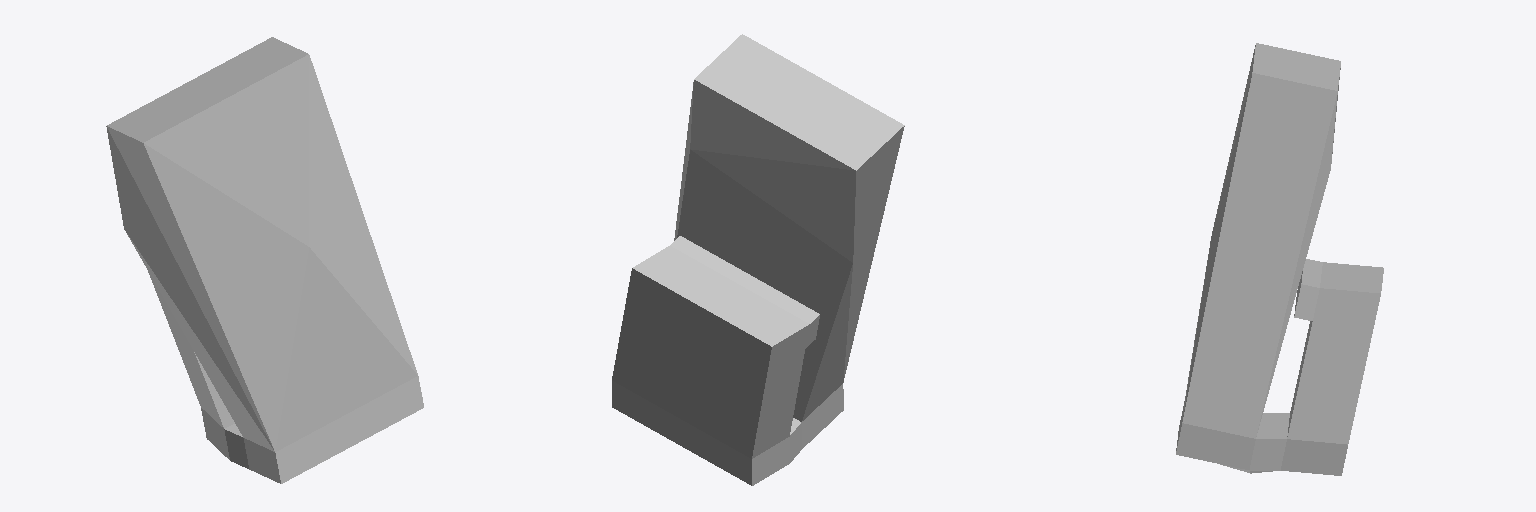
The model's file is lefthand.obj.
The picture shows the model from 3 angles: view 1: azimuth 30°, elevation 25°; view 2: azimuth 150°, elevation 25°; view 3: azimuth 270°, elevation 25°; orthographic projection.
Visible parts, largest first — view 1: lefthand_hand.001; view 2: lefthand_hand.001; view 3: lefthand_hand.001.
Part boxes in pixels (left/top/right/bottom): lefthand_hand.001: left=106, top=37, right=423, bottom=483; lefthand_hand.001: left=612, top=34, right=904, bottom=485; lefthand_hand.001: left=1176, top=43, right=1383, bottom=475.
Bounding box in the file's own units: 0.2746 × 0.4257 × 0.1987.